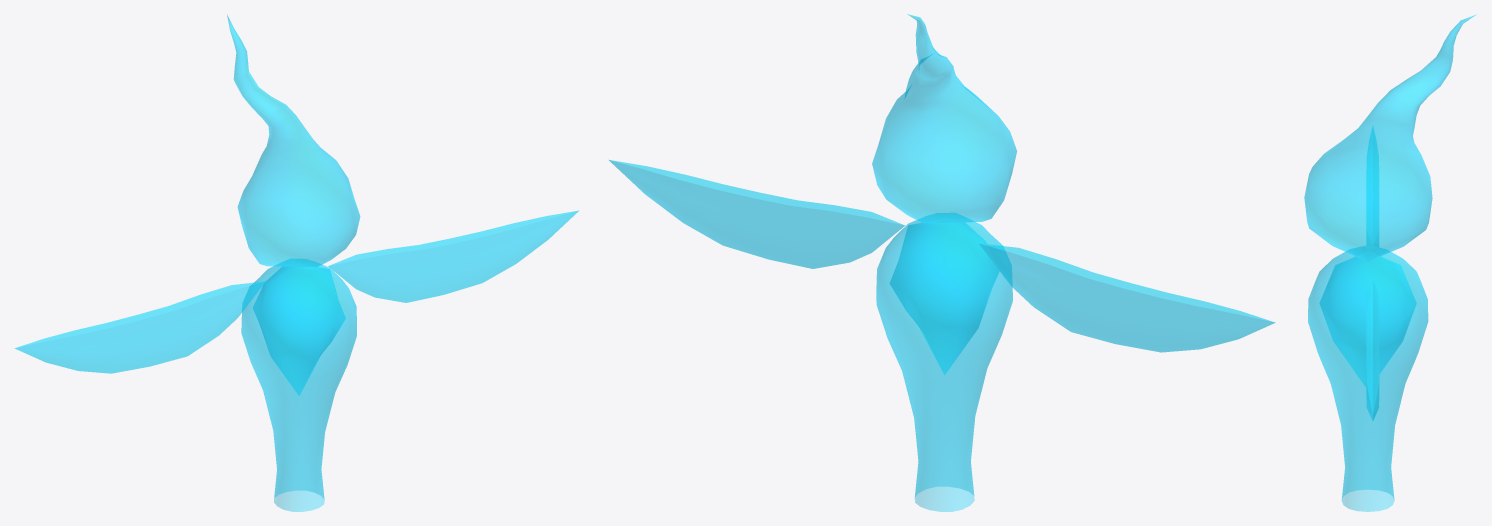
The model's file is poses_wisp.fbx.
3 renders of one model, left to right at view 1: azimuth 30°, elevation 25°; view 2: azimuth 150°, elevation 25°; view 3: azimuth 270°, elevation 25°, orthographic. The views are drawn at different scales.
Parts seen in each view (by area): view 1: wisp_geo; view 2: wisp_geo; view 3: wisp_geo.
Part boxes in pixels (box(x1,y1,x2,y2)): wisp_geo: box(15, 15, 578, 511); wisp_geo: box(609, 14, 1275, 511); wisp_geo: box(1304, 14, 1476, 511).
Bounding box in the file's own units: 51.35 × 39.39 × 12.99.
